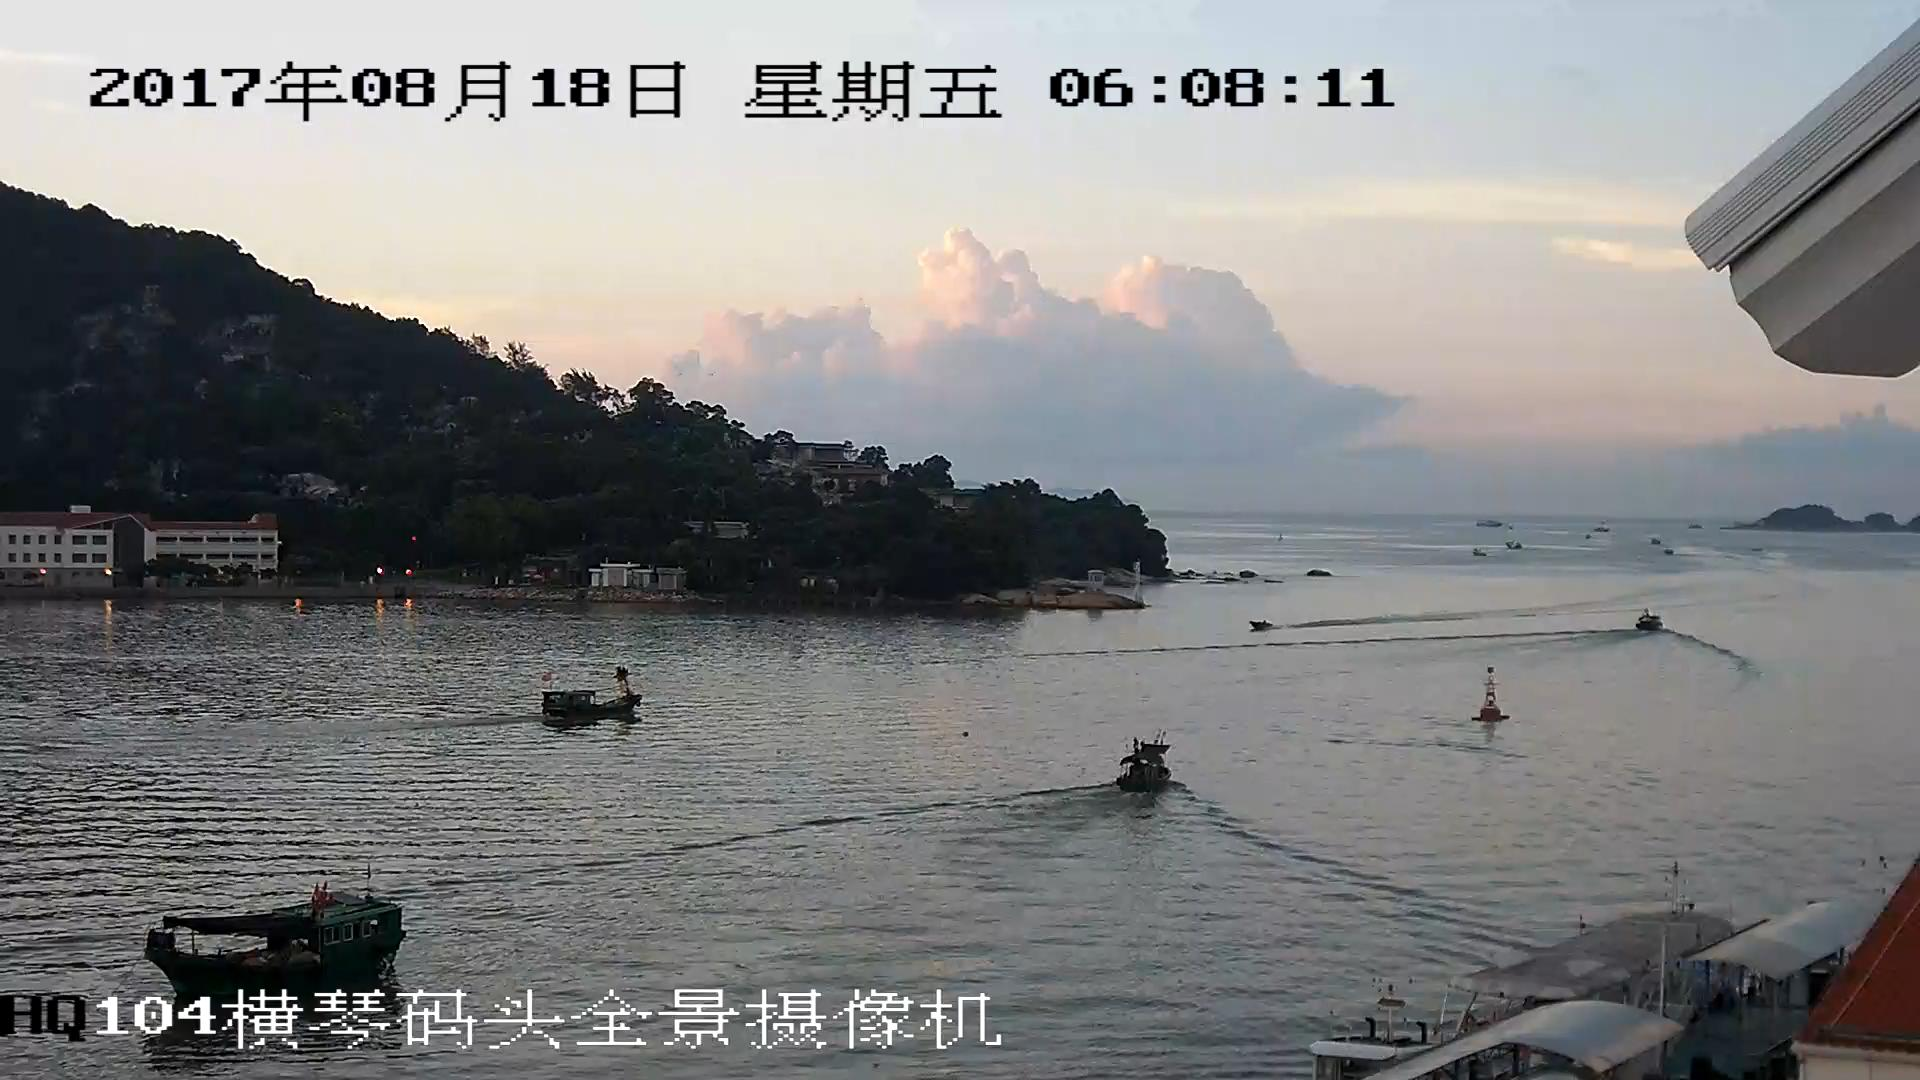fishing boat: (139, 883, 413, 986), (536, 669, 639, 720), (1118, 736, 1172, 799)
